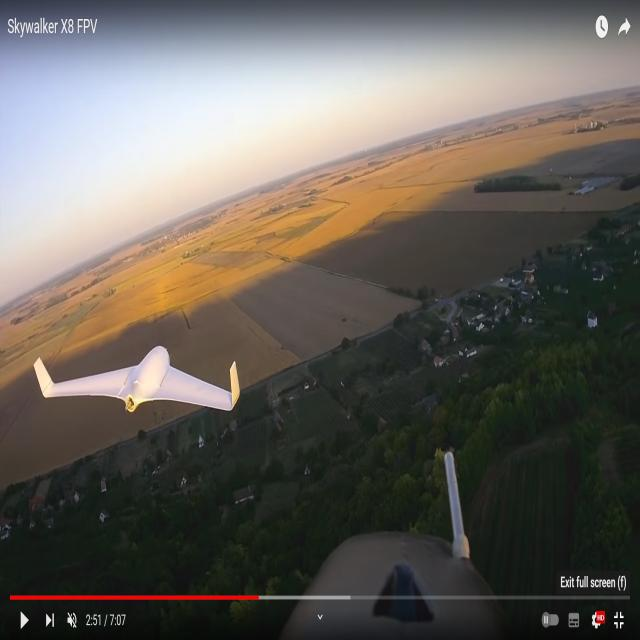iha: (28, 377, 237, 398)
